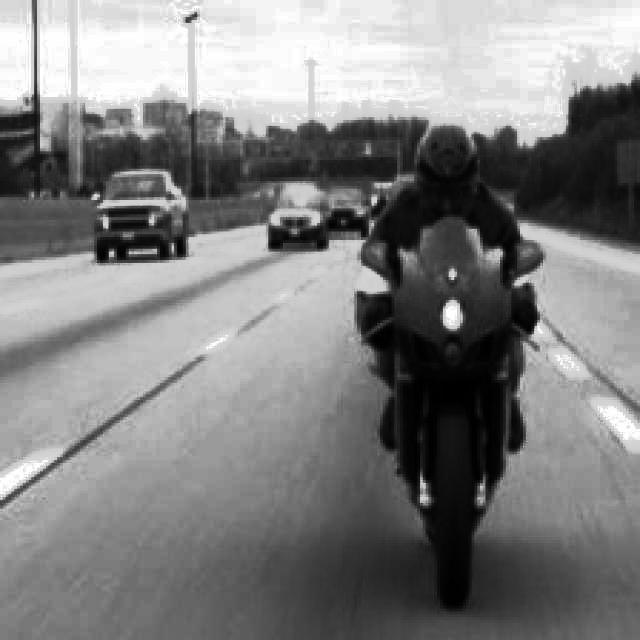Bike: (378, 217, 530, 599)
